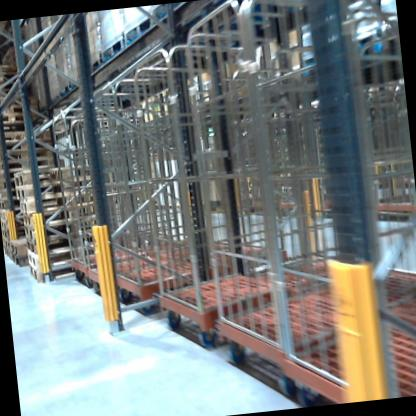pallet: (25, 240, 94, 274), (10, 161, 79, 189), (27, 256, 96, 284), (22, 214, 86, 244), (23, 228, 90, 255), (18, 190, 79, 214), (10, 178, 74, 199), (18, 208, 76, 229), (1, 202, 58, 222), (0, 151, 50, 172), (0, 145, 59, 161), (0, 126, 54, 143), (0, 108, 43, 128), (0, 138, 55, 153), (0, 68, 38, 86), (10, 250, 39, 272), (0, 167, 52, 179), (0, 100, 41, 115), (11, 236, 32, 261), (0, 58, 28, 76), (0, 86, 30, 101), (0, 78, 28, 93), (3, 228, 23, 245), (1, 220, 21, 235), (0, 199, 25, 211), (0, 188, 16, 202), (0, 177, 14, 189), (4, 248, 13, 263), (4, 240, 11, 255)
